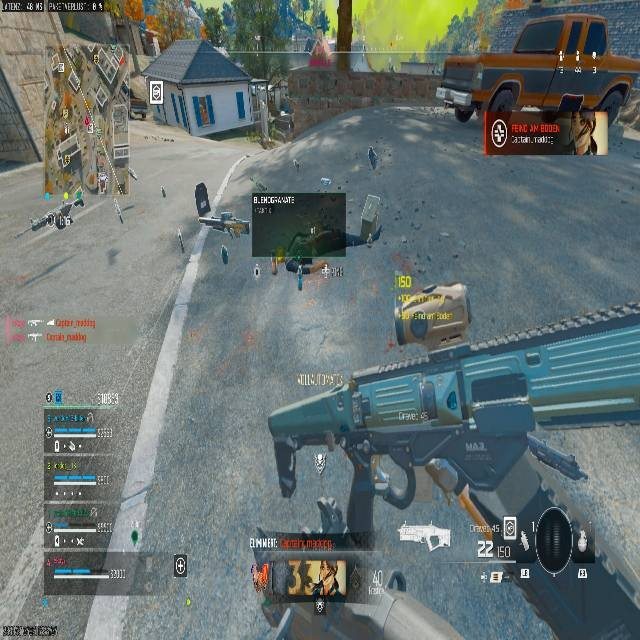head: (72, 199, 84, 209)
player: (30, 197, 84, 231)
